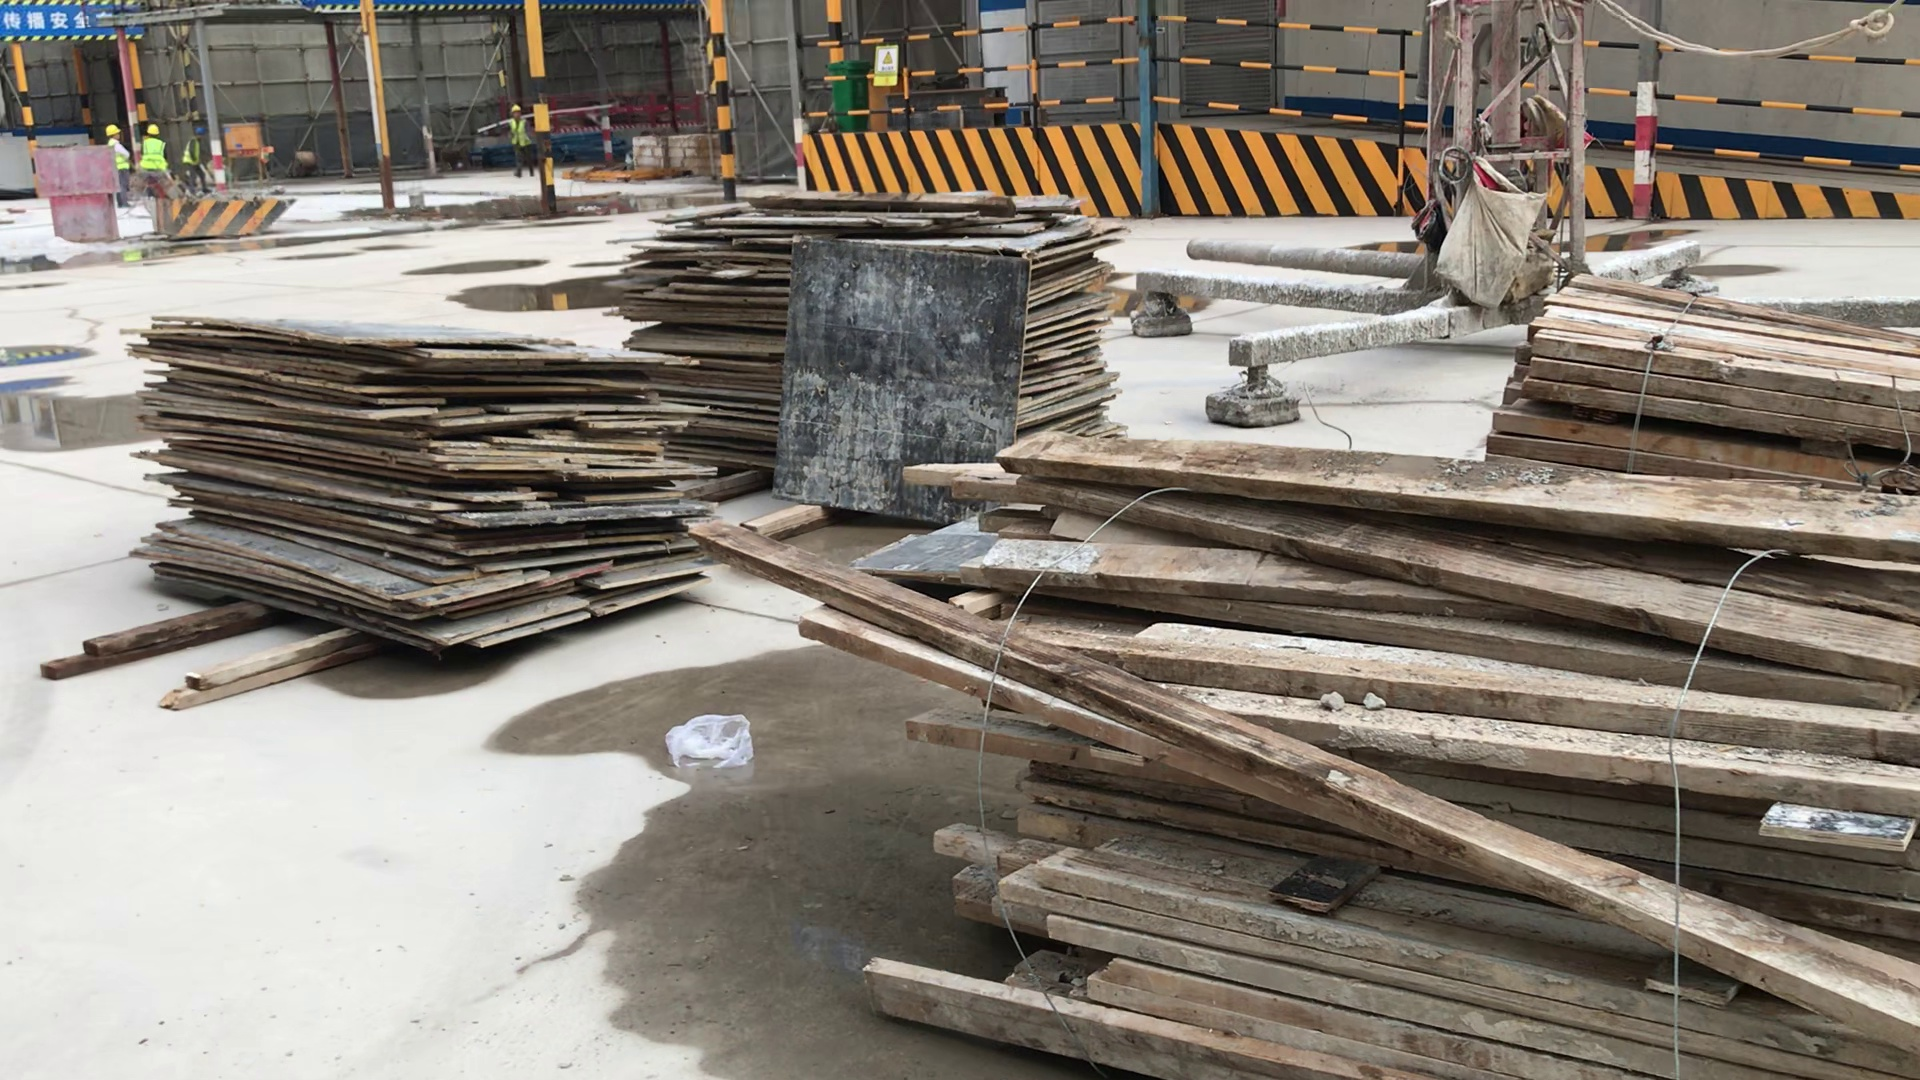board: (140, 311, 721, 653), (612, 200, 1124, 483)
helmet: (104, 123, 120, 135), (146, 124, 159, 135)
hopper: (148, 195, 298, 239)
person: (105, 124, 132, 209), (507, 103, 534, 178), (183, 127, 212, 194), (139, 124, 171, 172)
slogan: (4, 4, 89, 42)
wood: (863, 435, 1920, 1080), (1494, 277, 1920, 484)
